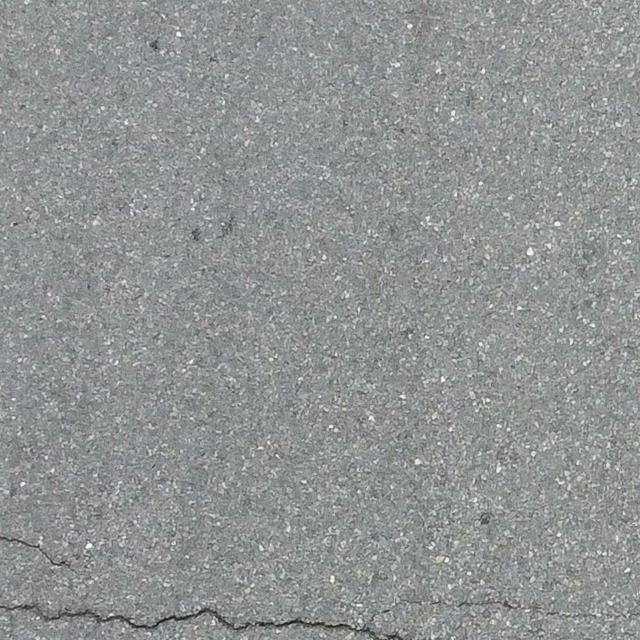TransverseCrack: (2, 600, 640, 640), (1, 535, 72, 568)
